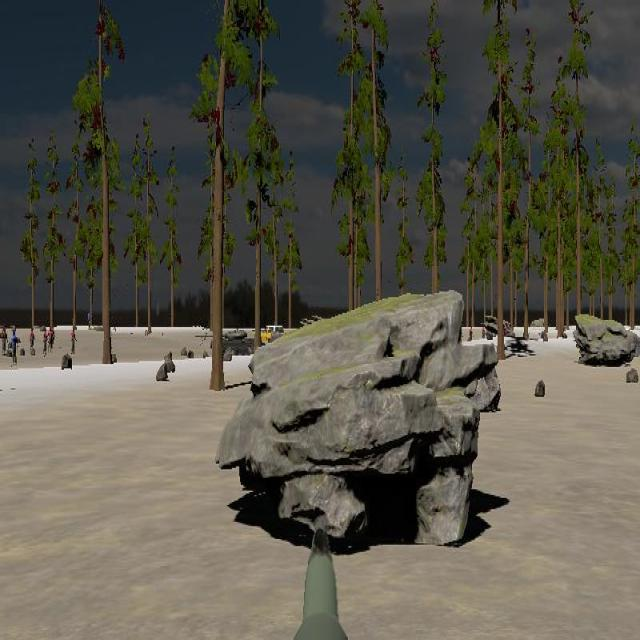Tank: (194, 327, 256, 360)
